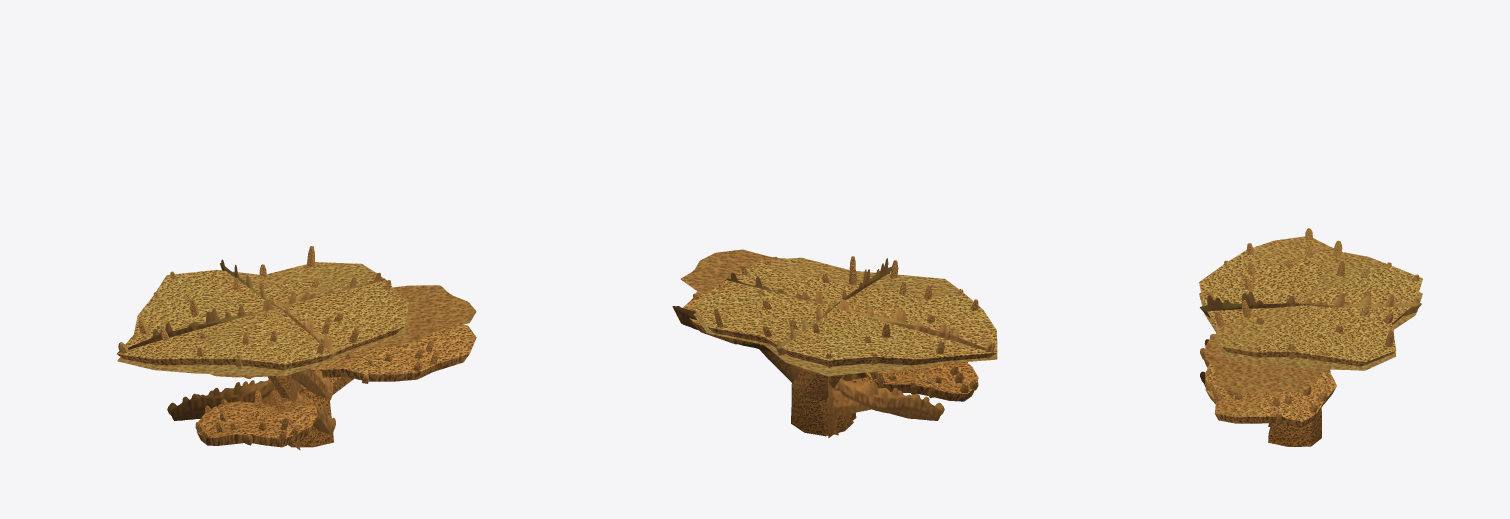
The model's file is Coral-02-Mesa-Ocre.glb.
3 views of the same model, side by side, from view 1: azimuth 30°, elevation 25°; view 2: azimuth 150°, elevation 25°; view 3: azimuth 270°, elevation 25° (orthographic). The views are drawn at different scales.
Parts seen in each view (by area): view 1: Colonia, Coral-02-Mesa-Ocre impostor; view 2: Colonia, Coral-02-Mesa-Ocre impostor; view 3: Colonia, Coral-02-Mesa-Ocre impostor.
Boxes of the visible parts, x1=… form: Colonia: x1=117, y1=246, x2=476, y2=447; Coral-02-Mesa-Ocre impostor: x1=117, y1=259, x2=476, y2=450; Colonia: x1=682, y1=256, x2=997, y2=436; Coral-02-Mesa-Ocre impostor: x1=672, y1=249, x2=997, y2=437; Colonia: x1=1199, y1=228, x2=1422, y2=446; Coral-02-Mesa-Ocre impostor: x1=1199, y1=291, x2=1422, y2=426.
Size of what is drawn, in the model's own units: 1.93 by 1.93 by 1.93.
2 materials, 2 textured.
